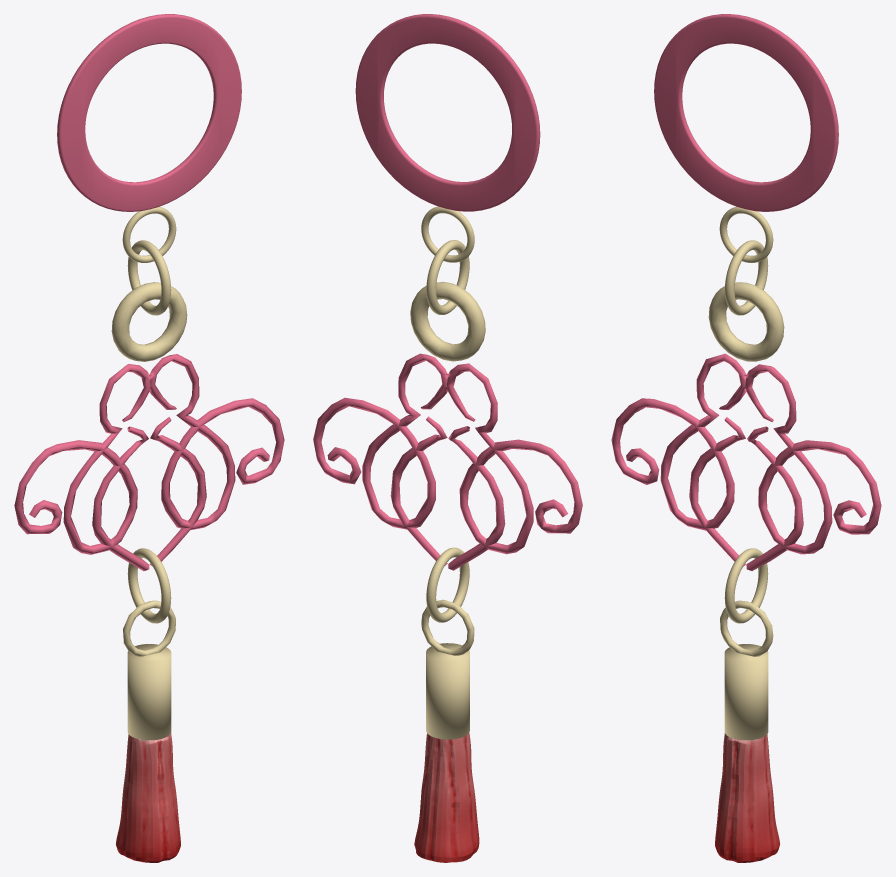
3 views of the same model, side by side, from view 1: azimuth 30°, elevation 25°; view 2: azimuth 150°, elevation 25°; view 3: azimuth 330°, elevation 25° (orthographic).
Visible parts, largest first — view 1: Earring_0; view 2: Earring_0; view 3: Earring_0.
Part boxes in pixels (x1,y1,x2,y2): Earring_0: (14,14,284,862); Earring_0: (313,14,582,862); Earring_0: (611,14,881,862).
Bounding box in the file's own units: 0.5937 × 1.75 × 0.1465.
3 materials, 1 textured.
